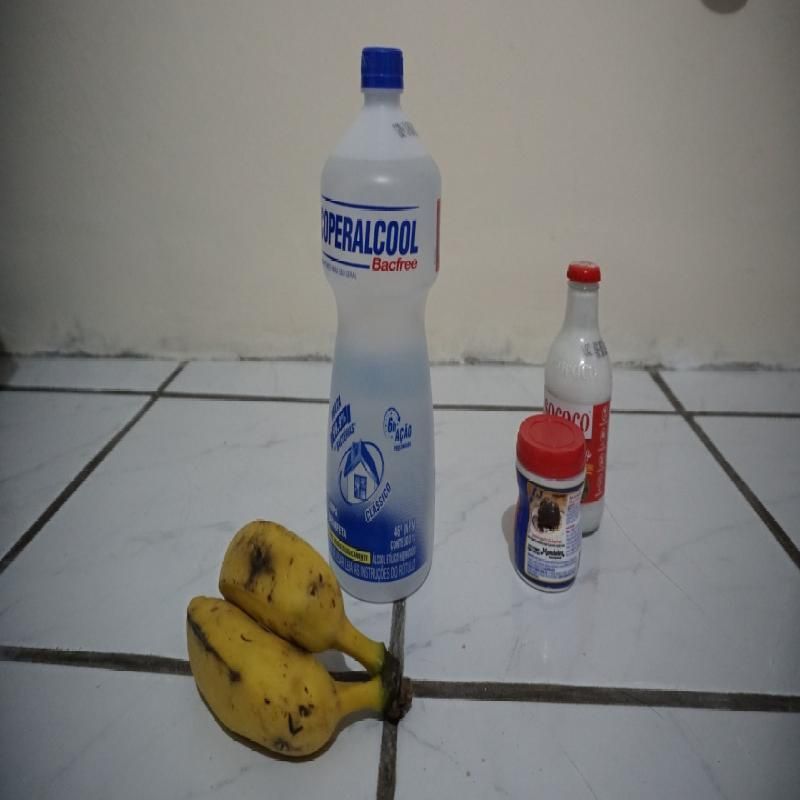Alcohol Bottle: (322, 40, 442, 506)
Banana: (189, 516, 415, 772)
Coconut Milk: (541, 258, 615, 408)
Yeast: (513, 412, 588, 590)
